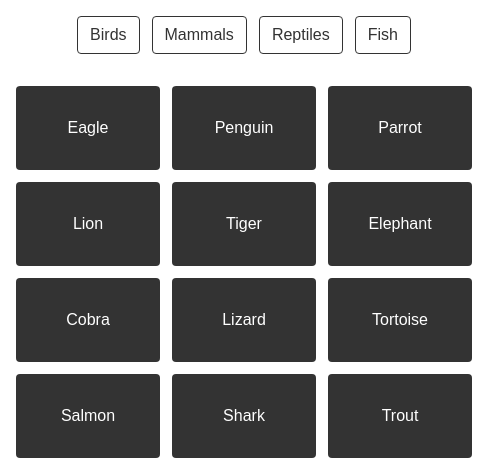
Scenario: App component tests › filters animals by class when a label is clicked
Click the text "Birds" at (108, 35), box [77,16,140,54]
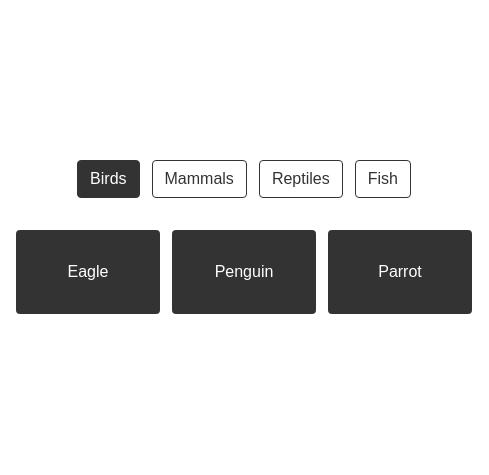
Check: the text with test id "animal-tile-id" reads "Eagle", box [68,263,108,280]
Check: the number of elements with test id "animal-tile-id" is 3, box [16,230,160,314]; [172,230,316,314]; [328,230,472,314]
